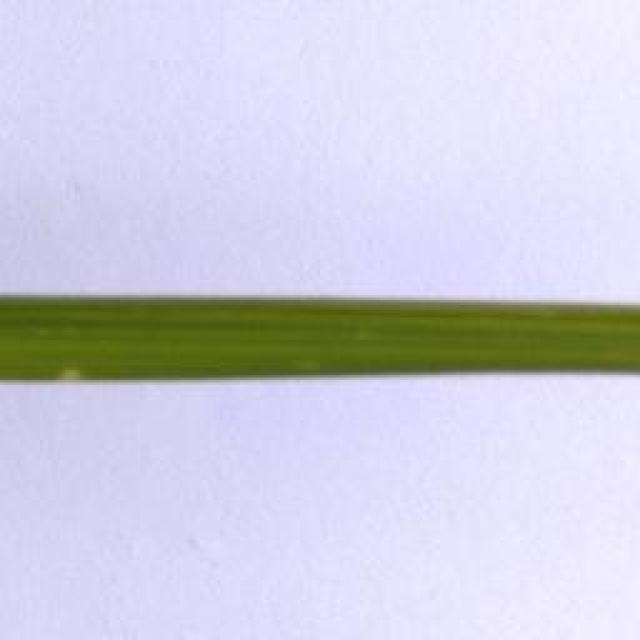Healthy-Plant: (0, 287, 640, 407)
